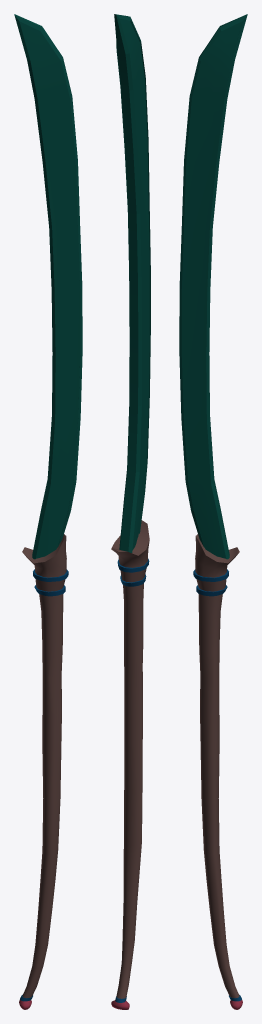
File: Mesh_Sword.fbx
3 views of the same model, side by side, from view 1: azimuth 90°, elevation 25°; view 2: azimuth 150°, elevation 25°; view 3: azimuth 270°, elevation 25° (orthographic).
Visible parts, largest first — view 1: Sword_low; view 2: Sword_low; view 3: Sword_low.
Part boxes in pixels (x1,y1,x2,y2): Sword_low: (14,14,82,1009); Sword_low: (111,14,150,1009); Sword_low: (179,14,247,1009).
Size of the model in its own units: 2.44 by 73.78 by 4.59.
